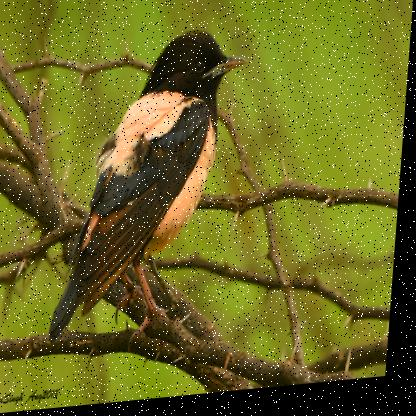Burung: (50, 30, 252, 343)
